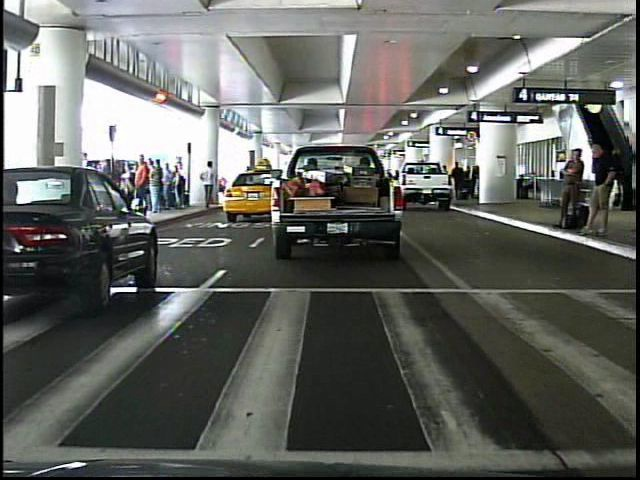person: (582, 139, 619, 239), (554, 138, 587, 237), (129, 153, 154, 217), (200, 160, 221, 211)
